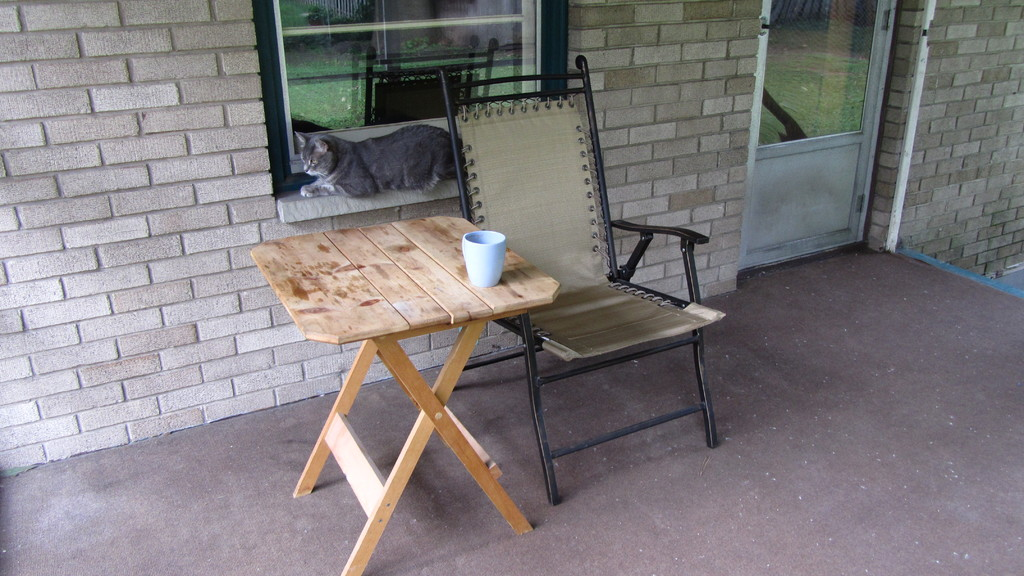Chair: (427, 52, 707, 511)
